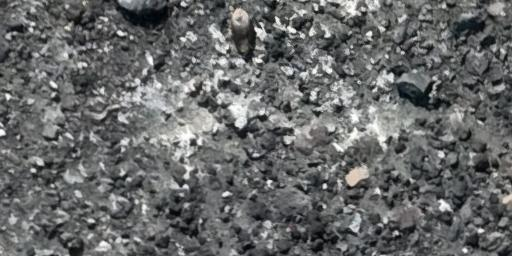skua: (221, 4, 260, 62)
